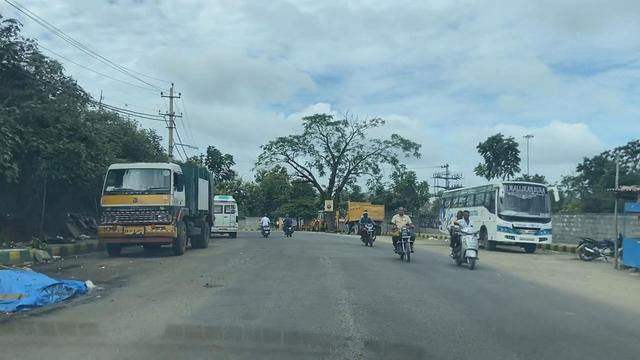HMV: (84, 160, 215, 253), (431, 183, 555, 255), (209, 192, 245, 243), (336, 194, 383, 232)
LMV: (568, 229, 626, 266), (449, 203, 479, 273), (384, 203, 417, 264), (283, 196, 305, 250), (353, 208, 378, 252), (257, 201, 281, 246)
RoadDamages: (304, 285, 388, 357)
